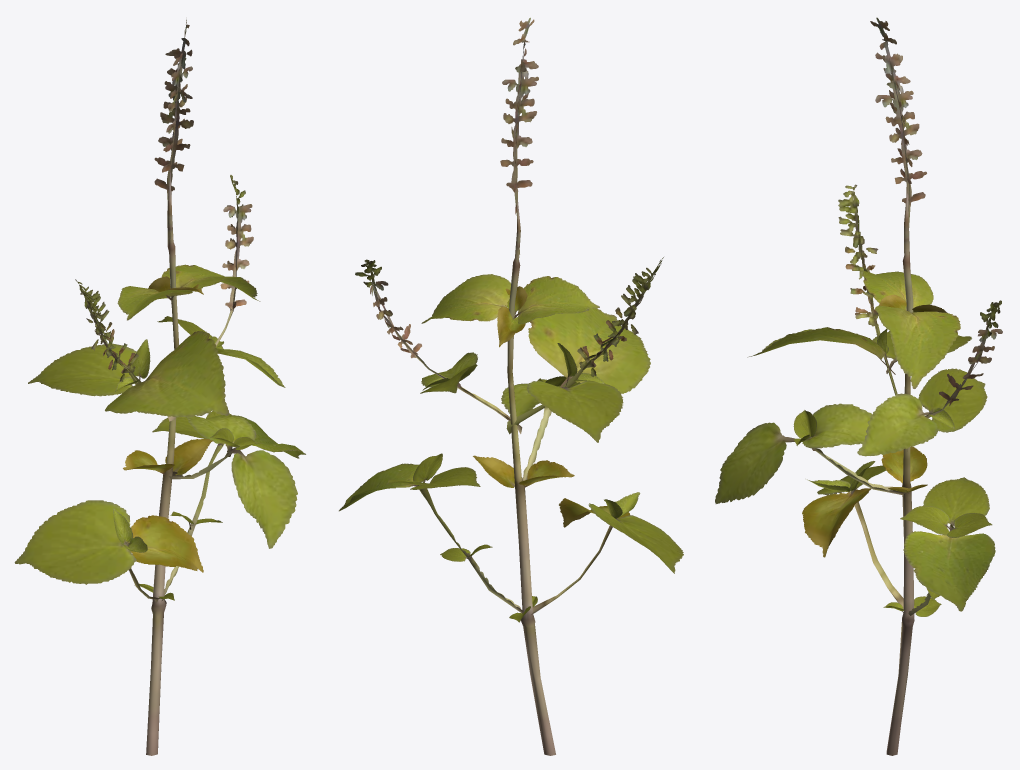
3 renders of one model, left to right at view 1: azimuth 30°, elevation 25°; view 2: azimuth 150°, elevation 25°; view 3: azimuth 270°, elevation 25°, orthographic. The views are drawn at different scales.
Visible parts, largest first — view 1: shrub_03__d_lod1; view 2: shrub_03__d_lod1; view 3: shrub_03__d_lod1.
Boxes of the visible parts, <box> form: shrub_03__d_lod1: <box>14,19,305,755</box>; shrub_03__d_lod1: <box>339,17,683,755</box>; shrub_03__d_lod1: <box>715,17,1002,755</box>.
Size of the model in its own units: 0.115 by 0.2579 by 0.0908.
1 material, 1 textured.
